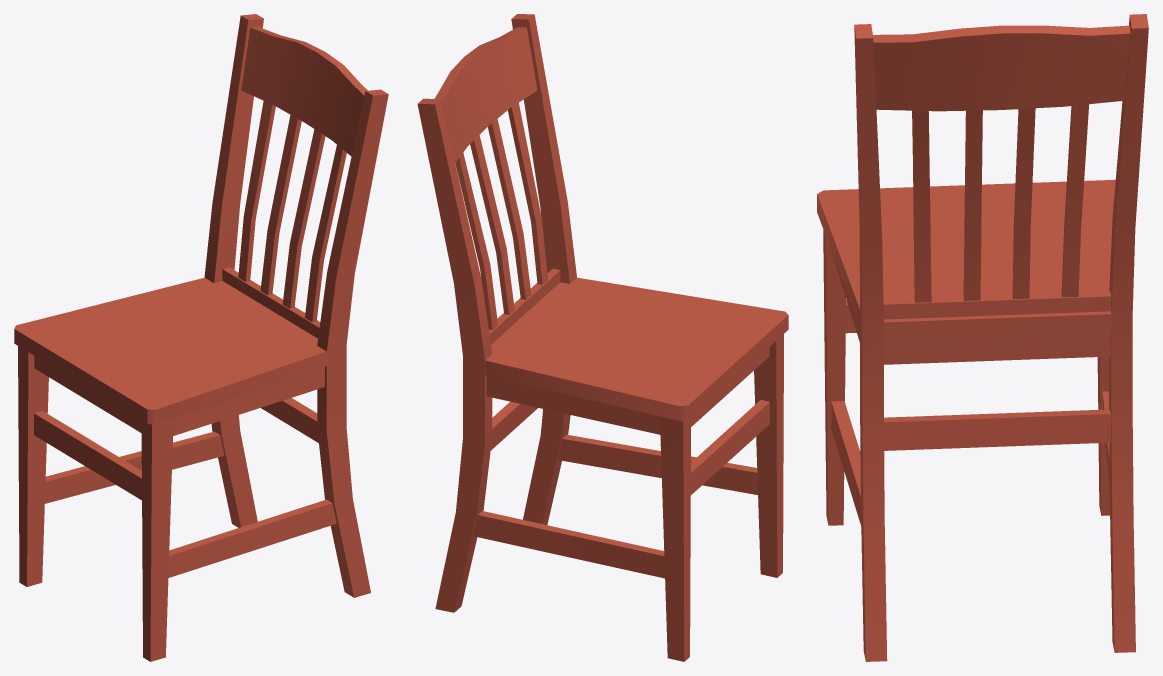
Rendered from silla.glb.
3 renders of one model, left to right at view 1: azimuth 30°, elevation 25°; view 2: azimuth 150°, elevation 25°; view 3: azimuth 270°, elevation 25°, orthographic. The views are drawn at different scales.
Parts seen in each view (by area): view 1: chair; view 2: chair; view 3: chair.
Part boxes in pixels (bbox=[...]): chair: bbox=[14, 14, 388, 661]; chair: bbox=[417, 14, 788, 661]; chair: bbox=[817, 14, 1148, 661].
Size of the model in its own units: 0.6362 by 1.12 by 0.5305.
